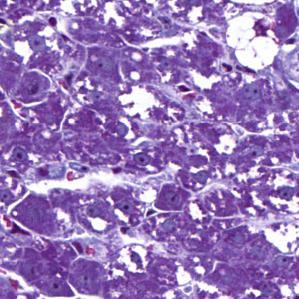ballooning: (224, 10, 283, 73)
